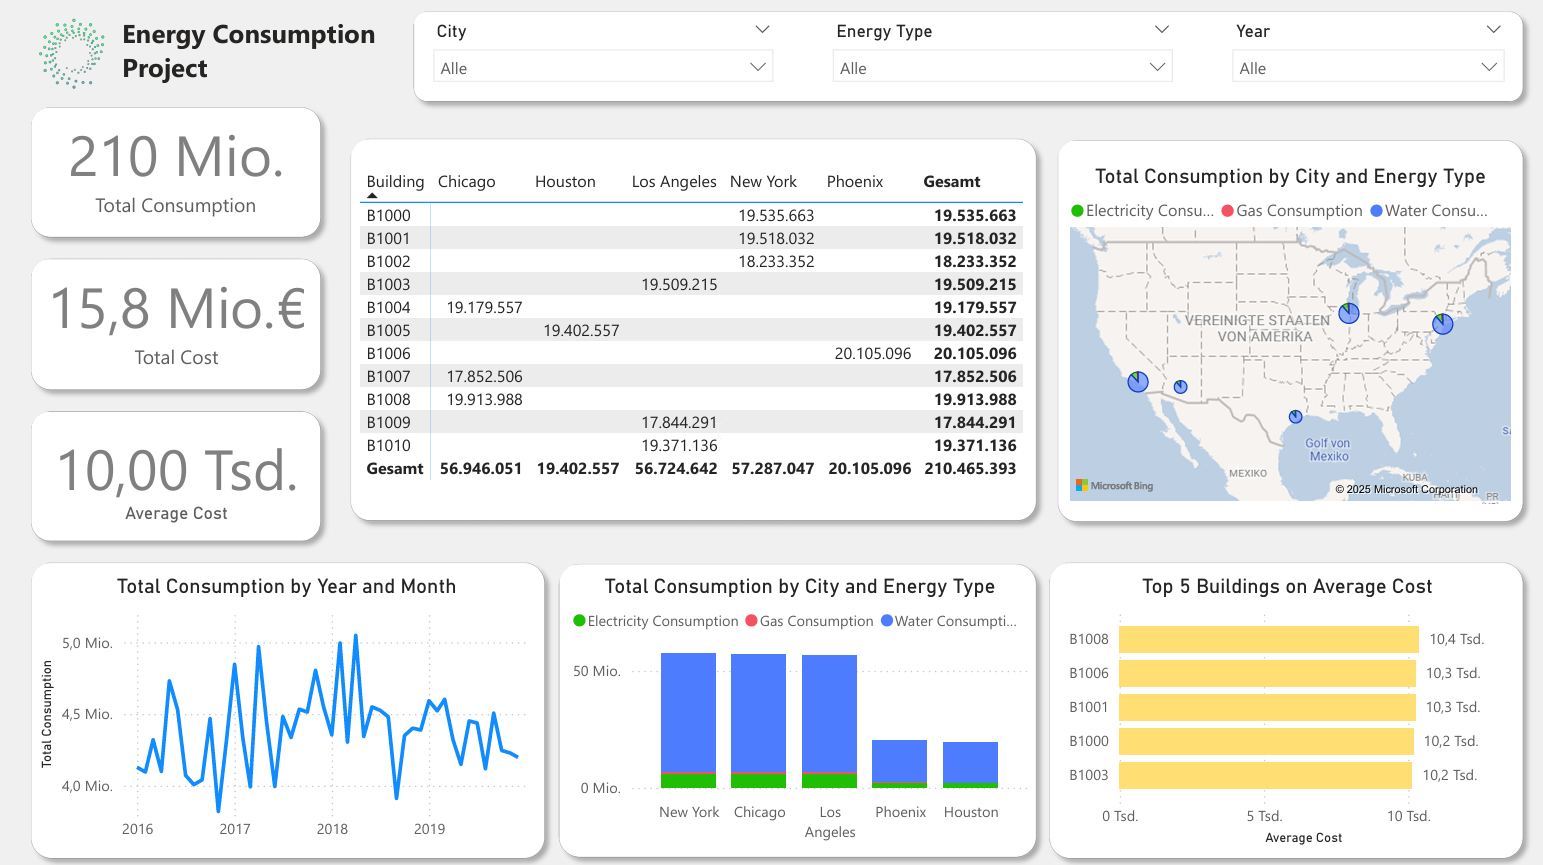

This screenshot's page, from the dashboard's own definition file:
{"tool":"powerbi","page":{"name":"Seite 3","canvas":[1280,720],"ordinal":2},"visuals":[{"type":"shape","box":[335.8,4.3,933.9,91.4],"z":0},{"type":"shape","box":[19.7,208.5,257.2,125.6],"z":1000},{"type":"shape","box":[19.7,82.9,257.2,125.6],"z":2000},{"type":"shape","box":[19.8,334.4,256.8,125],"z":3000},{"type":"shape","box":[19.8,459.4,442.1,261.1],"z":4000},{"type":"shape","box":[284.4,109.3,583.6,332.4],"z":5000},{"type":"shape","box":[867.8,110.1,402.5,332.7],"z":6000},{"type":"shape","box":[456.3,459.7,411.9,260.6],"z":7000},{"type":"shape","box":[861,459.4,409.4,261.1],"z":8000},{"type":"slicer","fields":{"Values":["Energy Consumptions.Year"]},"box":[1011.1,16,245,66.2],"z":9000},{"type":"card","fields":{"Values":["Tabelle.Total Cost"]},"box":[29.9,208.5,238.4,114.5],"z":10000},{"type":"card","fields":{"Values":["Tabelle.Total Consumption"]},"box":[52.1,88.9,193.1,101.7],"z":11000},{"type":"card","fields":{"Values":["Tabelle.Average Cost"]},"box":[30.2,334.4,237.9,125],"z":12000},{"type":"clusteredBarChart","title":"Top 5 Buildings on Average Cost","fields":{"Category":["Energy Consumptions.Building"],"Y":["Tabelle.Average Cost"]},"box":[876.5,476.6,379.2,229.3],"z":13000},{"type":"lineChart","title":"Total Consumption by Year and Month","fields":{"Category":["Energy Consumptions.Date.Variation.Datumshierarchie.Jahr","Energy Consumptions.Date.Variation.Datumshierarchie.Monat"],"Y":["Tabelle.Total Consumption"]},"box":[31,477.5,418,229.3],"z":14000},{"type":"columnChart","title":"Total Consumption by City and Energy Type","fields":{"Category":["Building Master.City"],"Y":["Tabelle.Total Consumption"],"Series":["Energy Consumptions.Energy Type"]},"box":[470.6,477.5,386.1,229.3],"z":15000},{"type":"pivotTable","fields":{"Rows":["Building Master.Building"],"Values":["Tabelle.Total Consumption"],"Columns":["Building Master.City"]},"box":[295.5,137.5,561.4,286.2],"z":16000},{"type":"map","title":"Total Consumption by City and Energy Type","fields":{"Category":["Building Master.City"],"Size":["Tabelle.Total Consumption"],"Series":["Energy Consumptions.Category_EC"]},"box":[881.5,137.7,374,286.1],"z":17000},{"type":"slicer","fields":{"Values":["Energy Consumptions.Energy Type"]},"box":[681.1,16,300.8,68.6],"z":18000},{"type":"slicer","fields":{"Values":["Building Master.City"]},"box":[351.1,16,300.8,68.6],"z":19000},{"type":"image","box":[8.6,3.4,111.2,84.5],"z":20000},{"type":"textbox","box":[99.1,11.2,239.6,71.5],"z":21000}]}

Visuals, with their boxes in screenshot pixels (x1, y1, x2, y2), scaled from the page's 1280x720 canvas onto the 1543x865 screenshot:
shape: 405,5,1531,115
shape: 24,250,334,401
shape: 24,100,334,250
shape: 24,402,333,552
shape: 24,552,557,864
shape: 343,131,1046,531
shape: 1046,132,1531,532
shape: 550,552,1047,864
shape: 1038,552,1531,864
slicer - Energy Consumptions.Year: 1219,19,1514,99
card - Tabelle.Total Cost: 36,250,323,388
card - Tabelle.Total Consumption: 63,107,296,229
card - Tabelle.Average Cost: 36,402,323,552
"Top 5 Buildings on Average Cost" clusteredBarChart: 1057,573,1514,848
"Total Consumption by Year and Month" lineChart: 37,574,541,849
"Total Consumption by City and Energy Type" columnChart: 567,574,1033,849
pivotTable - Building Master.Building x Tabelle.Total Consumption: 356,165,1033,509
"Total Consumption by City and Energy Type" map: 1063,165,1513,509
slicer - Energy Consumptions.Energy Type: 821,19,1184,102
slicer - Building Master.City: 423,19,786,102
image: 10,4,144,106
textbox: 119,13,408,99
